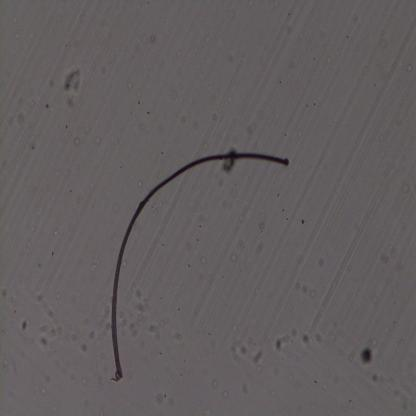Background material: (117, 289, 167, 349), (229, 339, 265, 365), (272, 328, 299, 358), (37, 321, 61, 352), (32, 285, 53, 316), (61, 67, 84, 95), (11, 109, 33, 128), (356, 346, 374, 368), (298, 326, 314, 350), (90, 248, 100, 276), (291, 276, 307, 292), (343, 389, 355, 410), (378, 245, 390, 265), (18, 318, 31, 336), (152, 390, 166, 405), (253, 236, 263, 255), (63, 95, 77, 107), (110, 200, 121, 214), (173, 328, 183, 342), (77, 343, 88, 355), (179, 109, 188, 123), (405, 57, 413, 72), (247, 122, 259, 132), (259, 218, 267, 232), (88, 330, 98, 341), (211, 379, 220, 390), (371, 370, 379, 382), (316, 258, 324, 269), (198, 254, 206, 265), (38, 386, 46, 396), (74, 135, 80, 147), (136, 98, 143, 108), (93, 134, 100, 144), (136, 178, 142, 189), (135, 89, 143, 97), (186, 261, 192, 269), (230, 254, 236, 262), (44, 103, 51, 109), (300, 217, 306, 224), (151, 35, 156, 43), (224, 390, 229, 398), (312, 378, 318, 384), (144, 109, 150, 115), (197, 221, 202, 228)
Microfibre: (109, 150, 293, 382)
